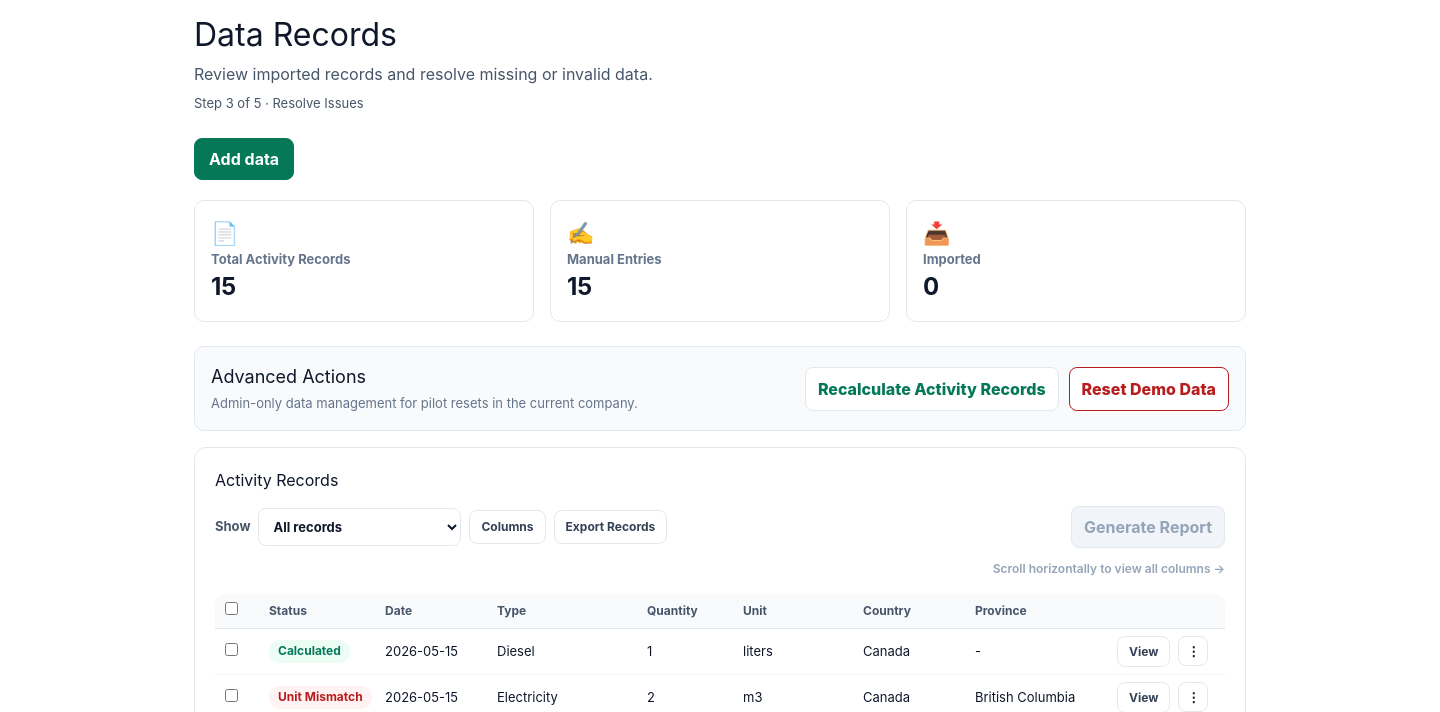
Test case: ActivityDataPage delete flows › enables Set Province for 15 selected records when 3 selected electricity records already have province
Click the 1st checkbox.
click(232, 608)  # box [225,602,238,615]
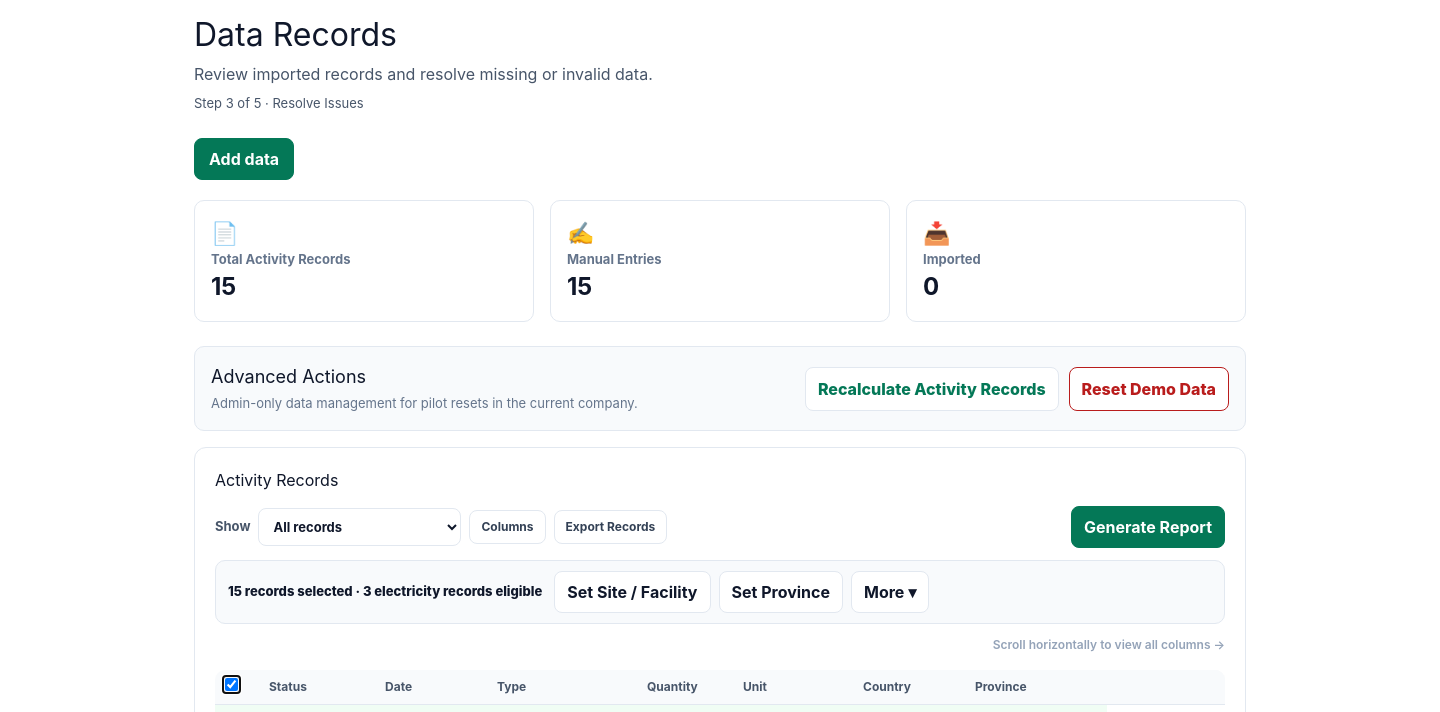
Now the text "15 records selected · 3 electricity records eligible" is shown, box [228,582,542,602]
Now the button "Set Province" is enabled
Click the button "Set Province".
click(781, 592)  # box [718,571,843,613]
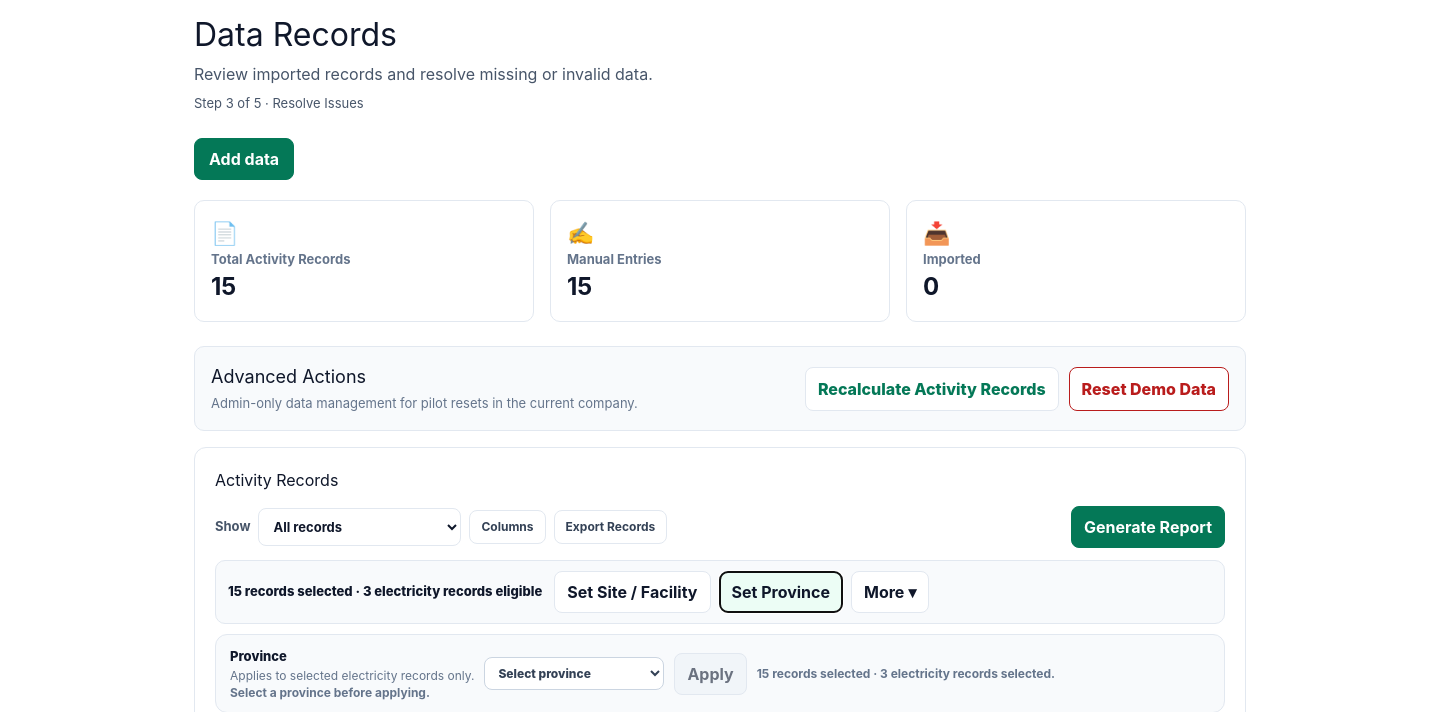
Select "Alberta" in the dropdown named "Province to apply to selected electricity records" at (574, 674), box [484,657,664,690]
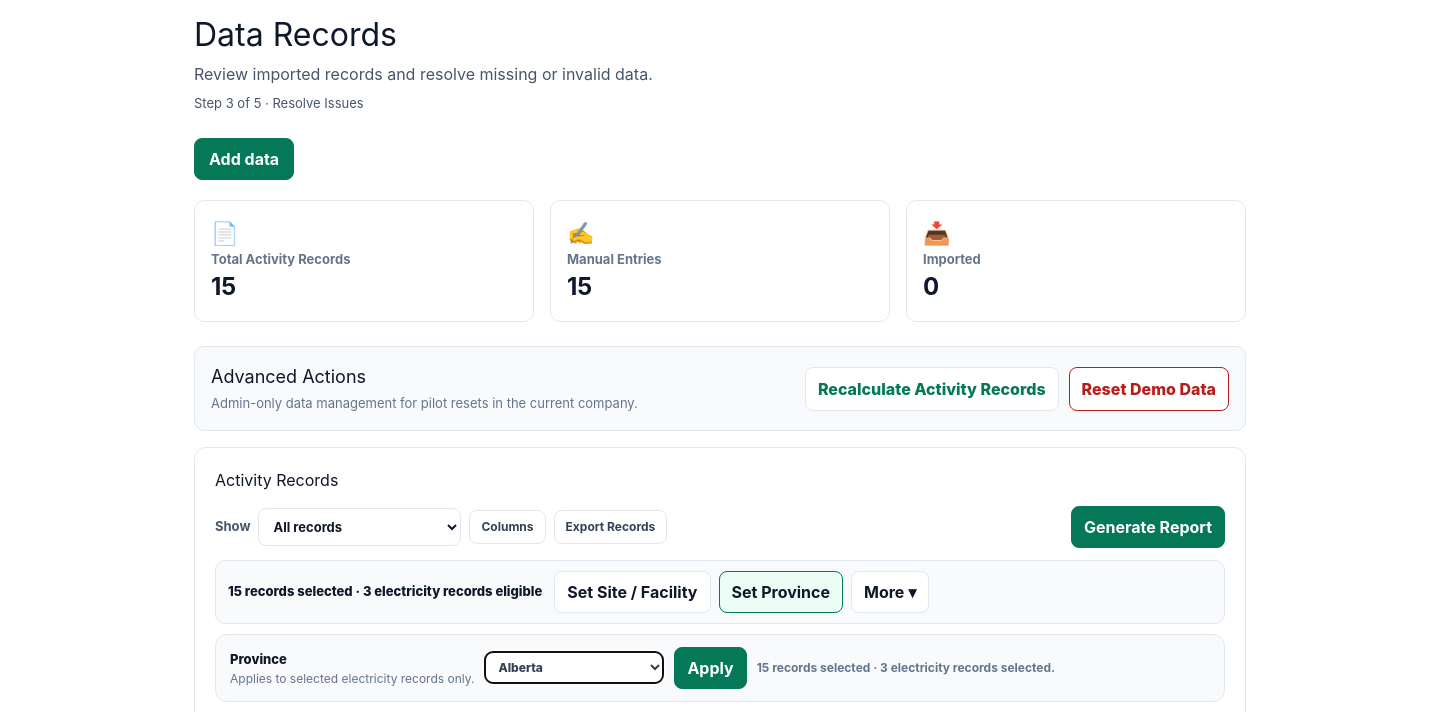
Now the button "Apply" is enabled
Click the button "Apply".
click(711, 668)  # box [674,647,747,689]
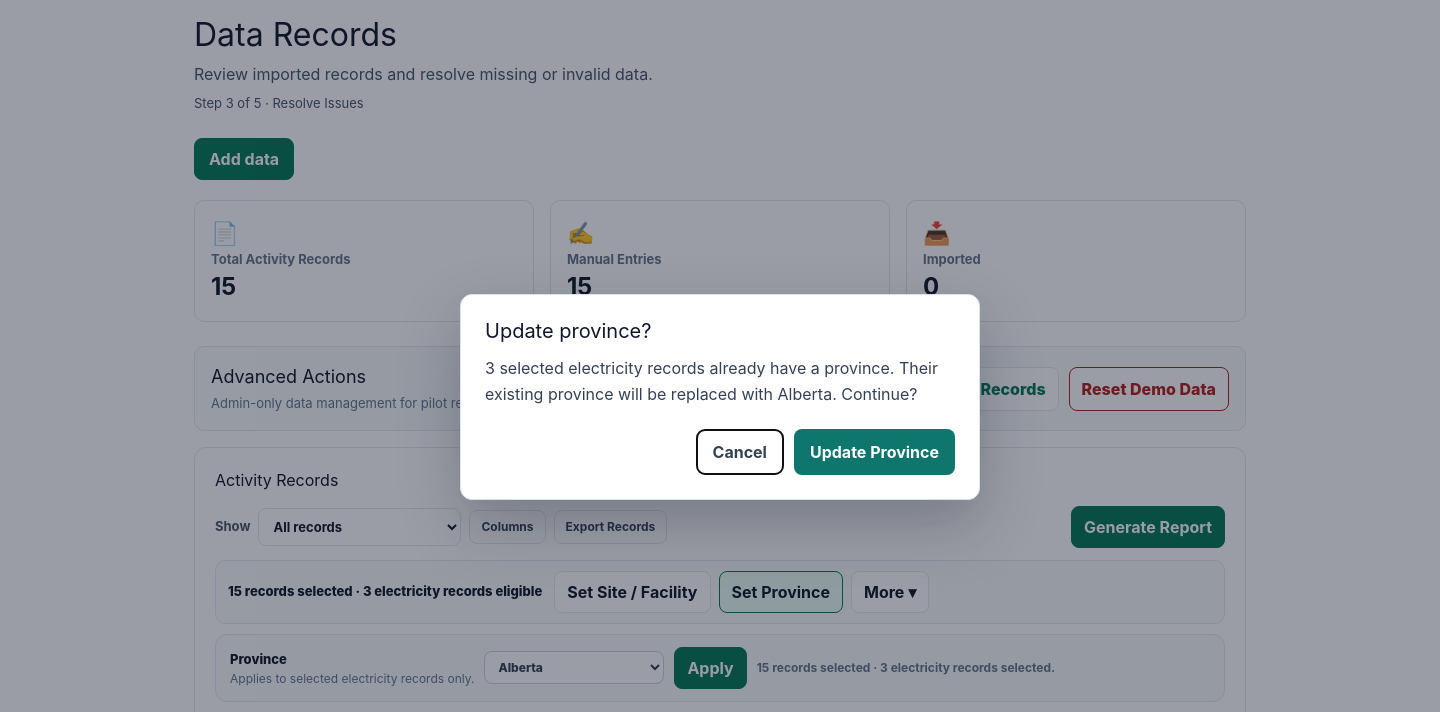
Click the button "Update Province".
click(874, 452)  # box [794,429,955,475]
(page scrolled)
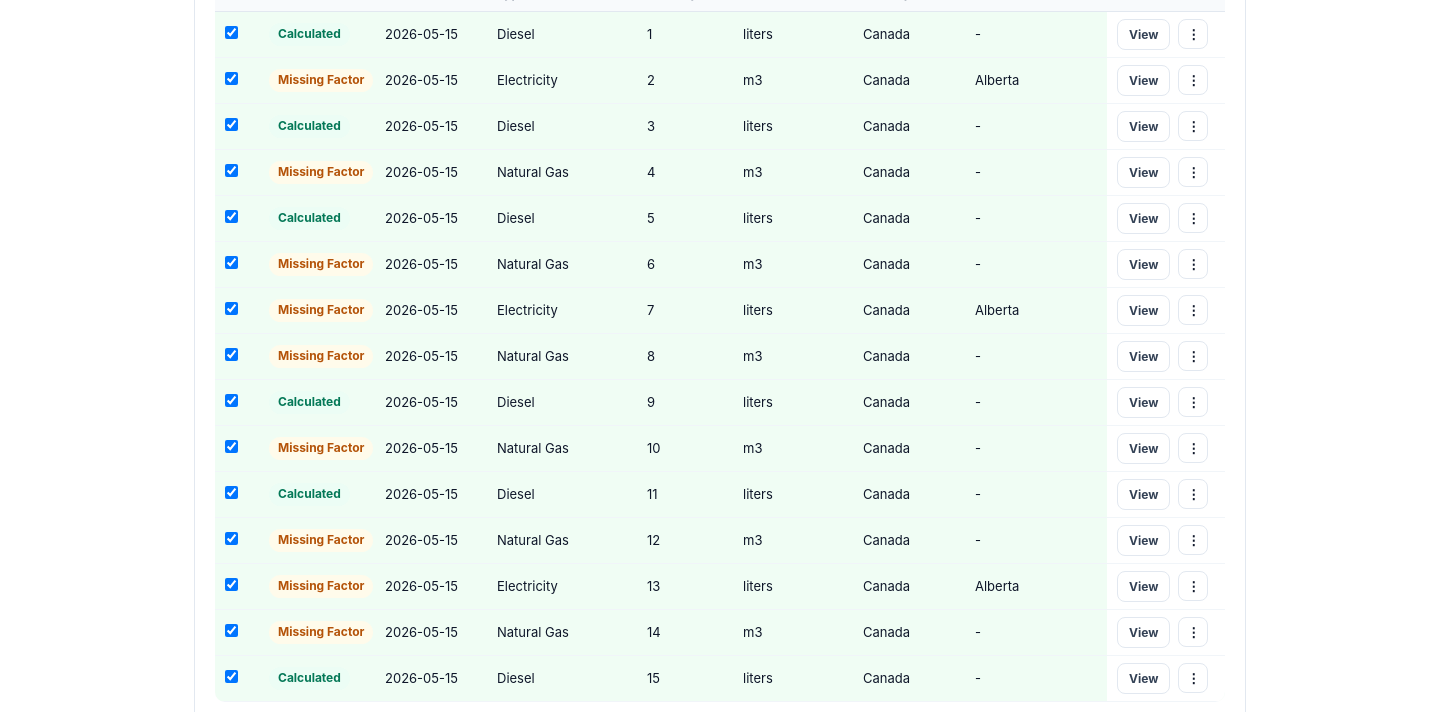
Now the 1st checkbox named "Select activity record Electricity 2026-05-15" is checked, box [225,72,238,85]
Now the 1st text "Alberta" is shown, box [965,57,1141,103]
